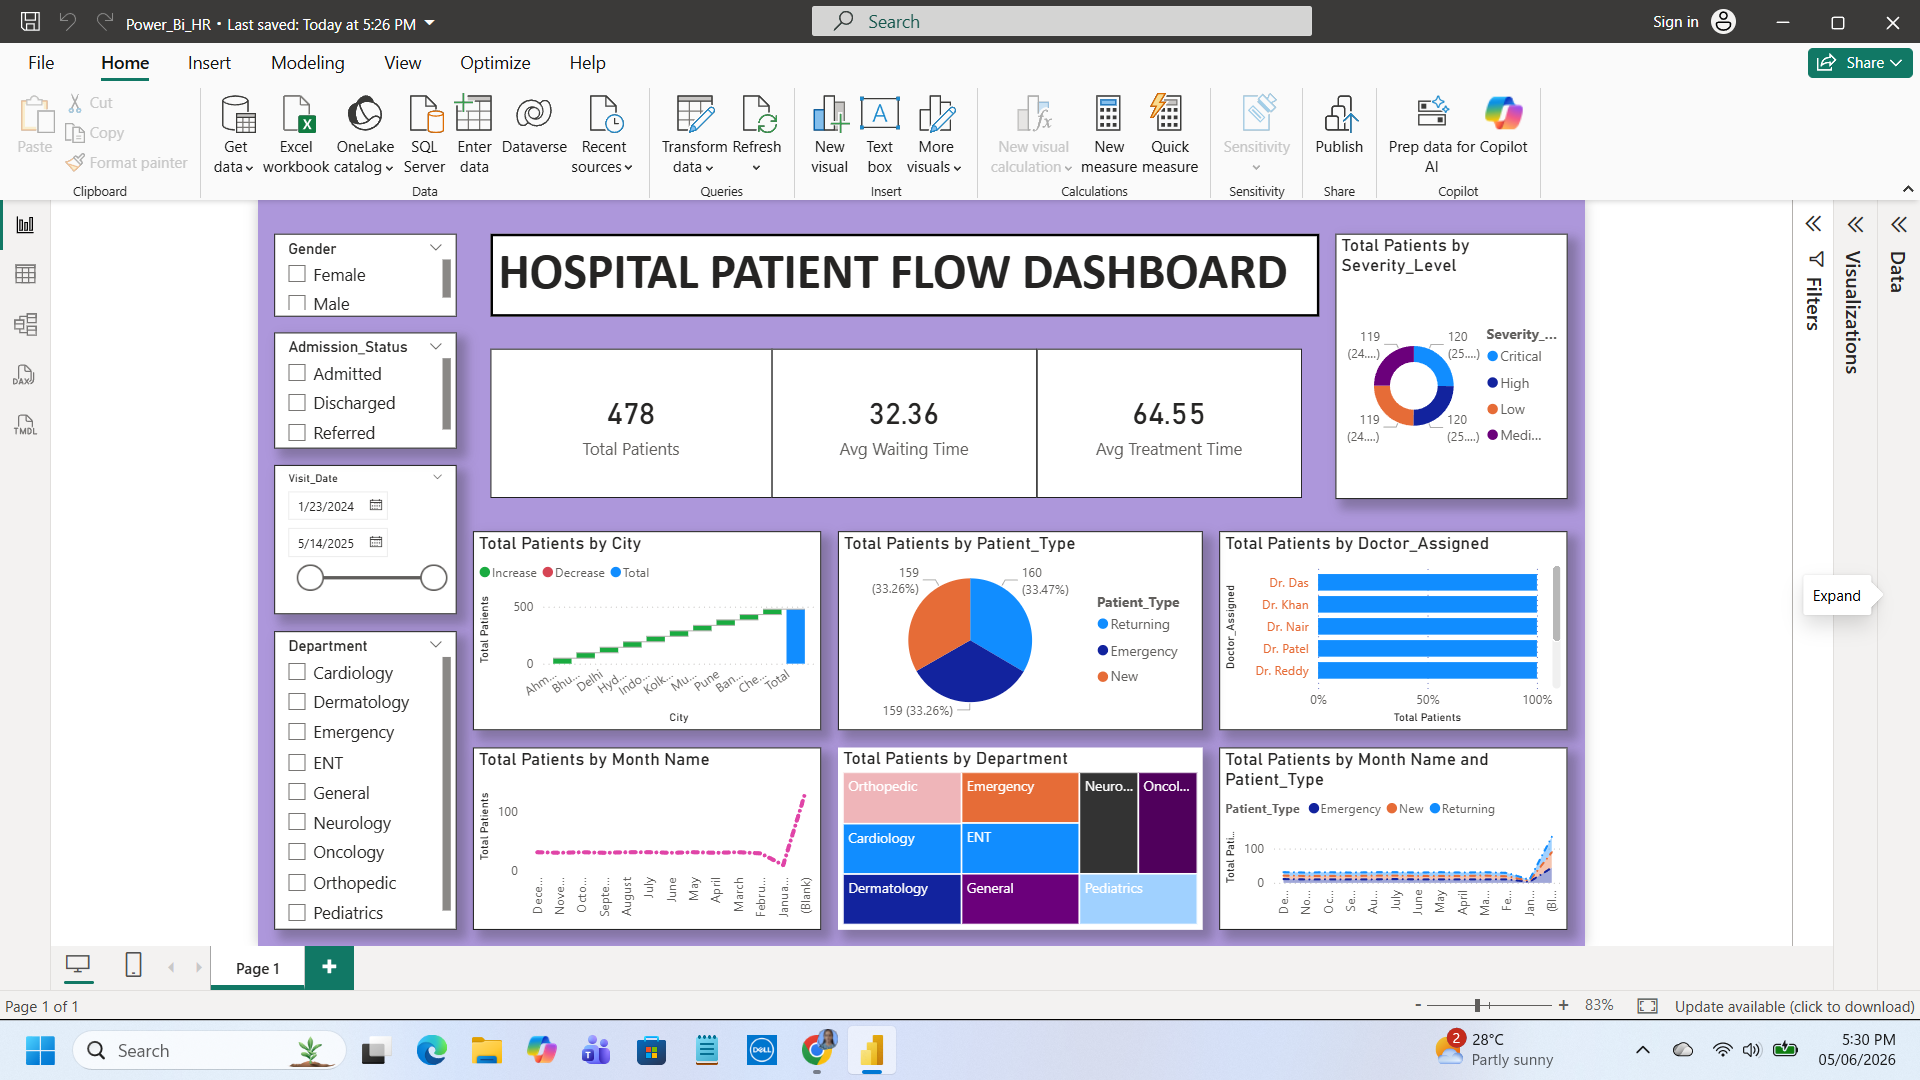

What the dashboard file says about the page in this screenshot:
{"tool":"powerbi","page":{"name":"Page 1","canvas":[1280,720],"ordinal":0},"visuals":[{"type":"card","fields":{"Values":["Fact_ER_Visits.Total Patients"]},"box":[224,144,272,144],"z":0},{"type":"card","fields":{"Values":["Fact_ER_Visits.Avg Waiting Time"]},"box":[496,144,256,144],"z":1000},{"type":"card","fields":{"Values":["Fact_ER_Visits.Avg Treatment Time"]},"box":[752,144,256,144],"z":2000},{"type":"textbox","box":[224,32,800,80],"z":3000},{"type":"donutChart","fields":{"Category":["Fact_ER_Visits.Severity_Level"],"Y":["Fact_ER_Visits.Total Patients"]},"box":[1040,32,224,256],"z":4000},{"type":"waterfallChart","fields":{"Category":["Fact_ER_Visits.City"],"Y":["Fact_ER_Visits.Total Patients"]},"box":[208,320,336,192],"z":5000},{"type":"hundredPercentStackedBarChart","fields":{"Category":["Fact_ER_Visits.Doctor_Assigned"],"Y":["Fact_ER_Visits.Total Patients"]},"box":[928,320,336,192],"z":6000},{"type":"slicer","fields":{"Values":["Fact_ER_Visits.Visit_Date"]},"box":[16,256,176,144],"z":7000},{"type":"slicer","fields":{"Values":["Fact_ER_Visits.Department"]},"box":[16,416,176,288],"z":8000},{"type":"slicer","fields":{"Values":["Fact_ER_Visits.Gender"]},"box":[16,32,176,80],"z":9000},{"type":"slicer","fields":{"Values":["Fact_ER_Visits.Admission_Status"]},"box":[16,128,176,112],"z":10000},{"type":"pieChart","fields":{"Category":["Fact_ER_Visits.Patient_Type"],"Y":["Fact_ER_Visits.Total Patients"]},"box":[560,320,352,192],"z":11000},{"type":"lineChart","fields":{"Y":["Fact_ER_Visits.Total Patients"],"Category":["Dim_Calendar.Month Name"]},"box":[208,528,336,176],"z":12000},{"type":"treemap","fields":{"Values":["Fact_ER_Visits.Total Patients"],"Group":["Fact_ER_Visits.Department"]},"box":[560,528,352,176],"z":13000},{"type":"stackedAreaChart","fields":{"Category":["Dim_Calendar.Month Name"],"Series":["Fact_ER_Visits.Patient_Type"],"Y":["Fact_ER_Visits.Total Patients"]},"box":[928,528,336,176],"z":14000}]}

Visuals, with their boxes on the page's 1280x720 design canvas (x1, y1, x2, y2). These are canvas units, not pixel positions in the 1920x1080 screenshot, which may show the page scaled, cropped or inside an application window:
card - Fact_ER_Visits.Total Patients: [224, 144, 496, 288]
card - Fact_ER_Visits.Avg Waiting Time: [496, 144, 752, 288]
card - Fact_ER_Visits.Avg Treatment Time: [752, 144, 1008, 288]
textbox: [224, 32, 1024, 112]
donutChart - Fact_ER_Visits.Severity_Level x Fact_ER_Visits.Total Patients: [1040, 32, 1264, 288]
waterfallChart - Fact_ER_Visits.City x Fact_ER_Visits.Total Patients: [208, 320, 544, 512]
hundredPercentStackedBarChart - Fact_ER_Visits.Doctor_Assigned x Fact_ER_Visits.Total Patients: [928, 320, 1264, 512]
slicer - Fact_ER_Visits.Visit_Date: [16, 256, 192, 400]
slicer - Fact_ER_Visits.Department: [16, 416, 192, 704]
slicer - Fact_ER_Visits.Gender: [16, 32, 192, 112]
slicer - Fact_ER_Visits.Admission_Status: [16, 128, 192, 240]
pieChart - Fact_ER_Visits.Patient_Type x Fact_ER_Visits.Total Patients: [560, 320, 912, 512]
lineChart - Fact_ER_Visits.Total Patients x Dim_Calendar.Month Name: [208, 528, 544, 704]
treemap - Fact_ER_Visits.Total Patients x Fact_ER_Visits.Department: [560, 528, 912, 704]
stackedAreaChart - Dim_Calendar.Month Name x Fact_ER_Visits.Patient_Type: [928, 528, 1264, 704]
